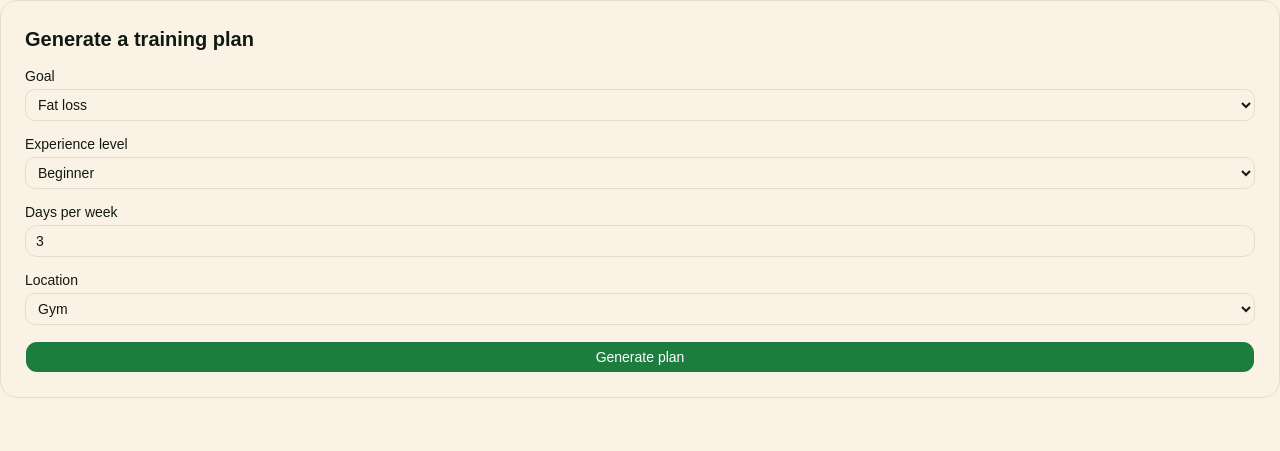
WorkoutPlanForm › shows a generic error message when the request fails
Click the button "Generate plan" at coordinates (640, 357), box x1=25 y1=341 x2=1255 y2=373
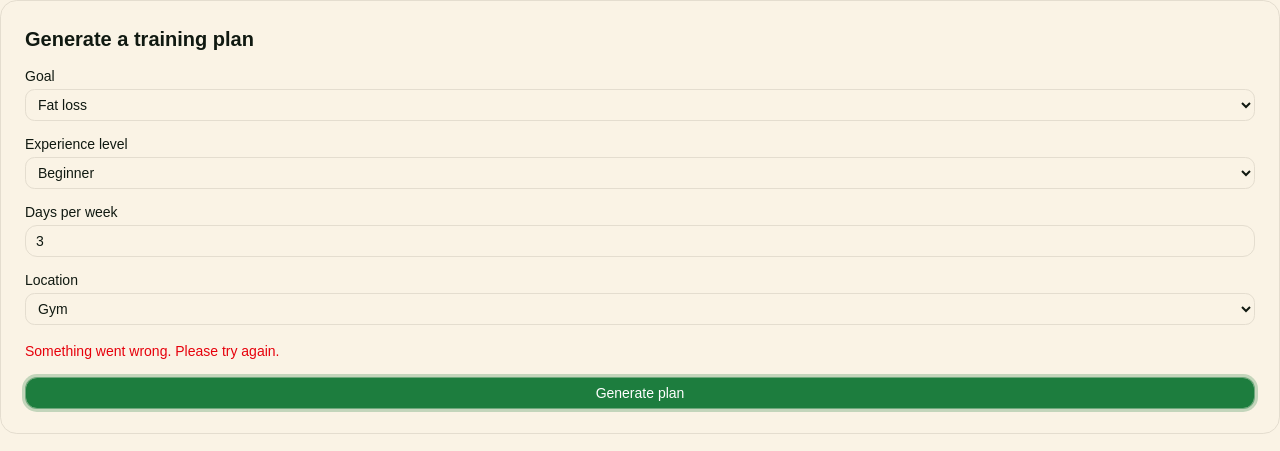
expect the text "Something went wrong. Please try again." is shown: met, box x1=25 y1=343 x2=280 y2=359
